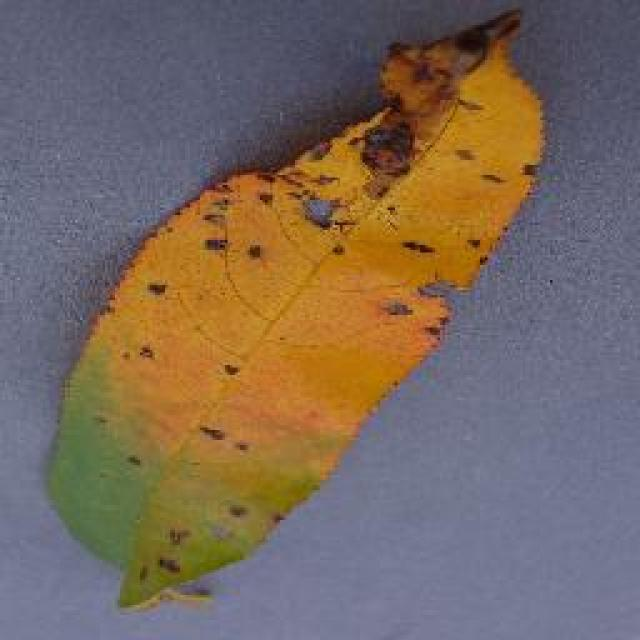Peach_Bacterial_Spot: (262, 71, 515, 382)
